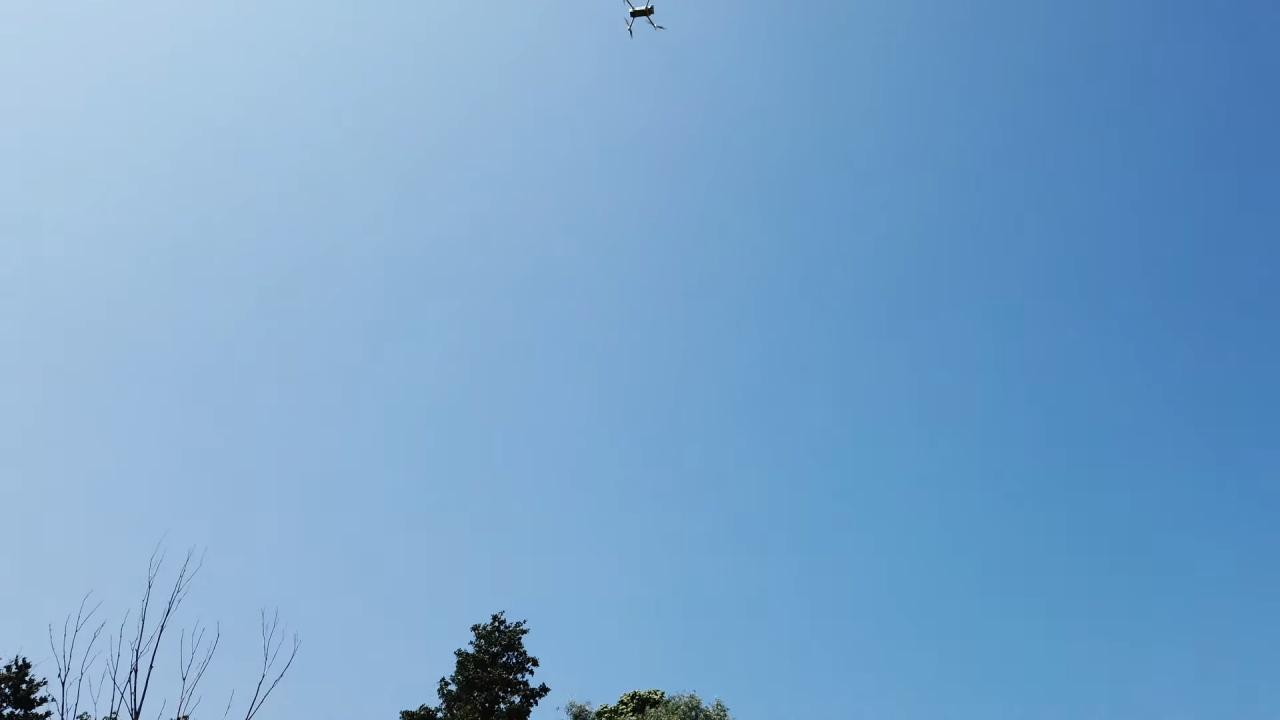Drone: (611, 0, 672, 46)
